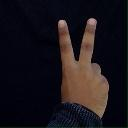hand: (57, 17, 109, 118)
